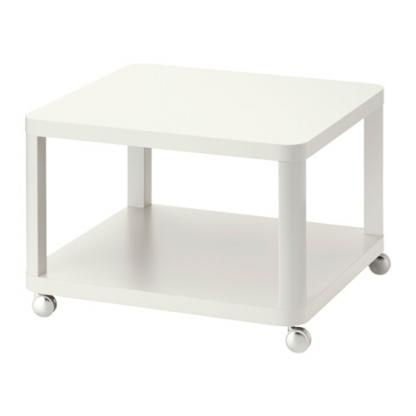Table: (17, 57, 395, 361)
